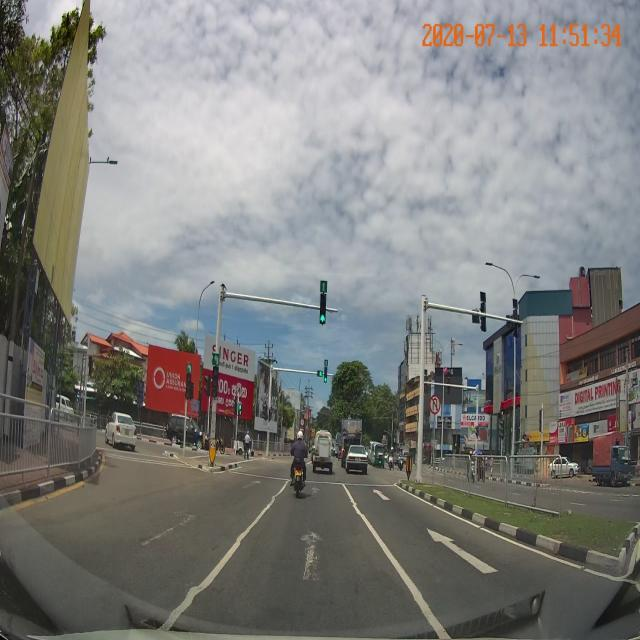forward: (192, 518, 429, 601)
